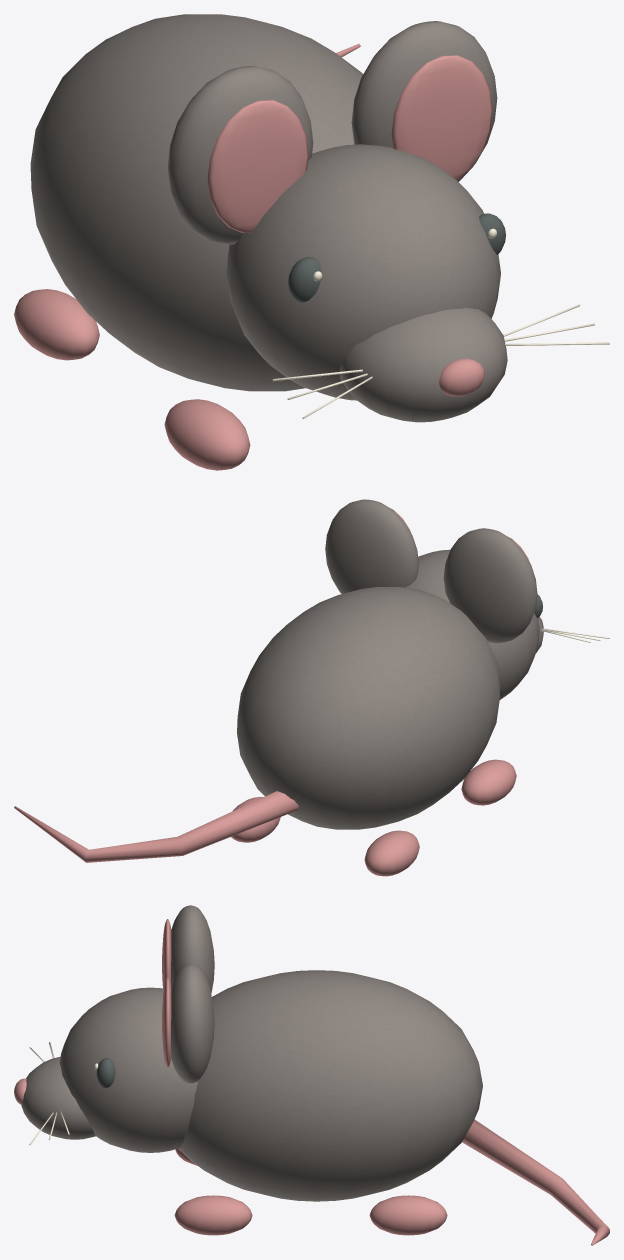
File: mouse.glb
3 renders of one model, top to bottom at view 1: azimuth 30°, elevation 25°; view 2: azimuth 150°, elevation 25°; view 3: azimuth 270°, elevation 25°, orthographic. The views are drawn at different scales.
Parts seen in each view (by area): view 1: mouse; view 2: mouse; view 3: mouse.
Boxes of the visible parts, <box> form: mouse: <box>14,14,609,470</box>; mouse: <box>14,499,609,876</box>; mouse: <box>14,905,609,1245</box>.
Bounding box in the file's own units: 0.3263 × 0.251 × 0.5196.
4 materials, 1 textured.
